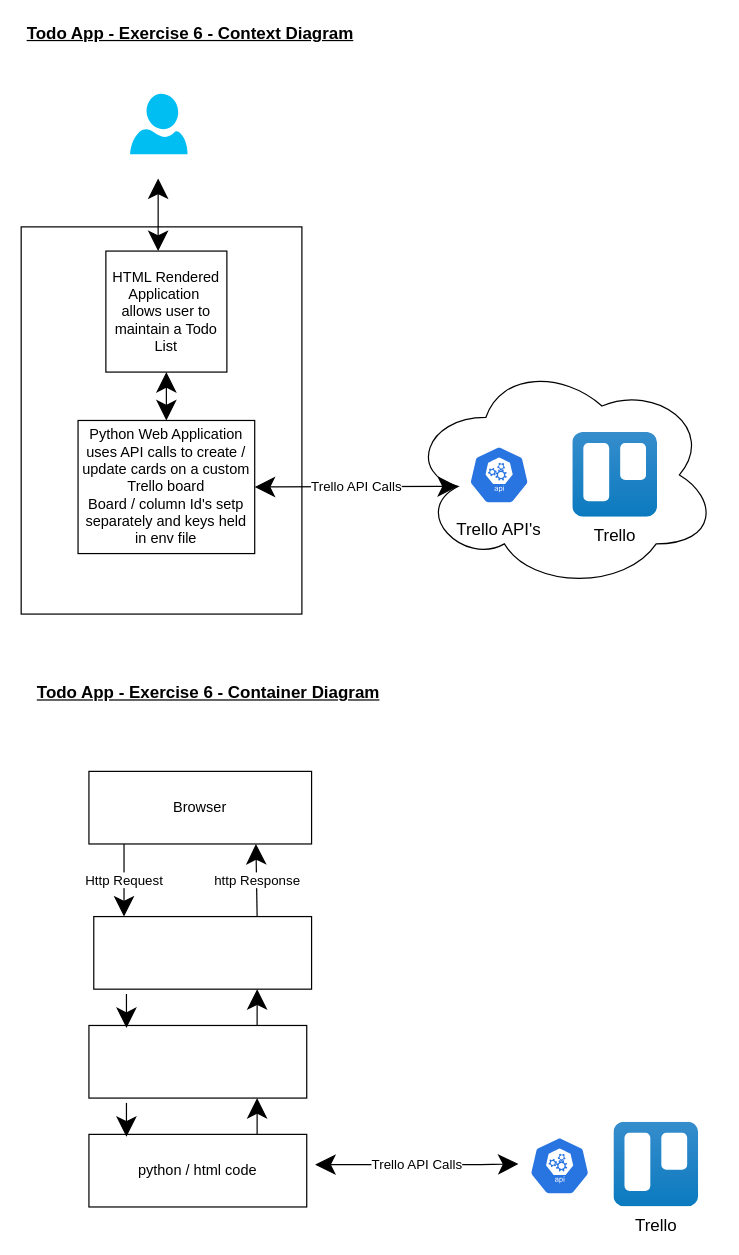
Image size: 739x1255. Some labels were removed from this diagram. Each missing label, with the centre of its shape:
flask: the point at 197,1061
gunicorn web server localhost port:5000: the point at 202,952
User: the point at 158,123
